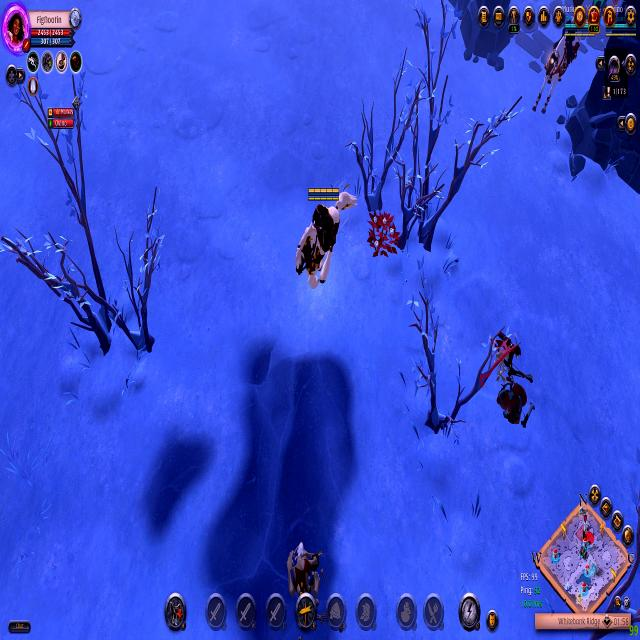hide: (366, 205, 406, 262)
ore: (478, 324, 532, 396), (287, 534, 323, 624)
red: (532, 0, 597, 124), (293, 183, 360, 294), (602, 0, 639, 36)
